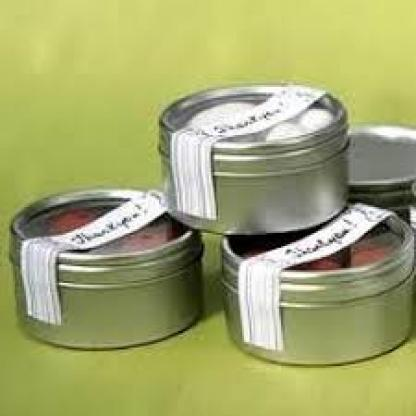Metal: (7, 19, 416, 390)
